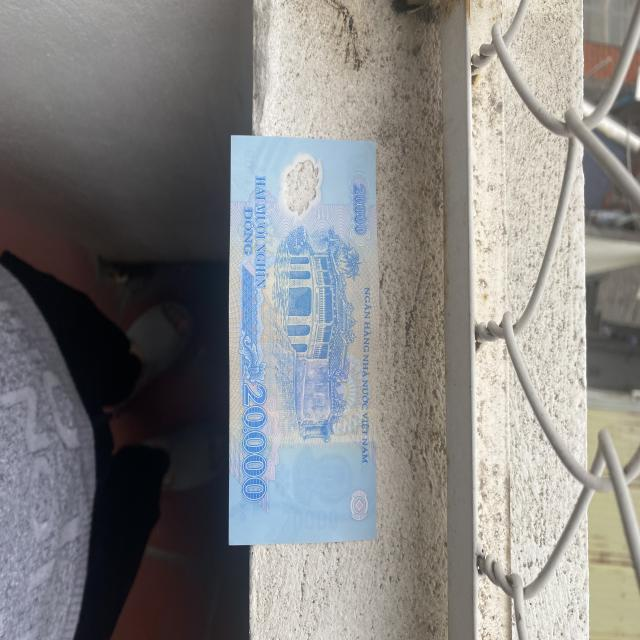20 000 VND: (224, 128, 381, 550)
